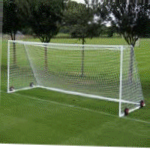goals: (5, 38, 146, 119)
